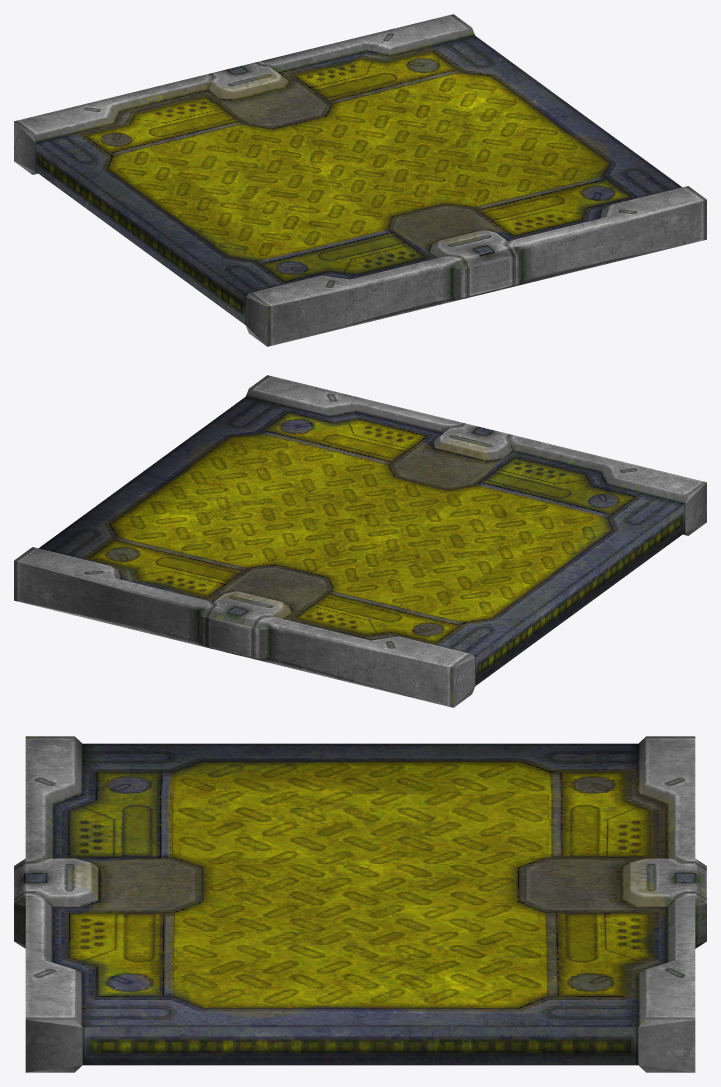
File: catwalk_straight_short_nohandrail.dae
The picture shows the model from 3 angles, top to bottom: view 1: azimuth 30°, elevation 25°; view 2: azimuth 150°, elevation 25°; view 3: azimuth 270°, elevation 25°; orthographic projection. The views are drawn at different scales.
Visible parts, largest first — view 1: polySurface92; view 2: polySurface92; view 3: polySurface92.
Boxes of the visible parts, x1=… form: polySurface92: x1=14, y1=14, x2=706, y2=346; polySurface92: x1=14, y1=375, x2=706, y2=707; polySurface92: x1=14, y1=736, x2=706, y2=1072.
Size of the model in its own units: 2 by 0.1745 by 2.07.
Materials: 1 (1 with a texture image).
